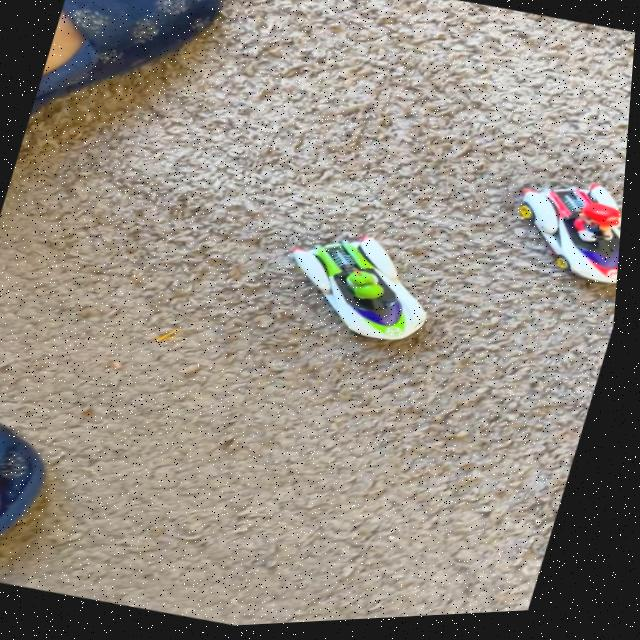mario: (487, 162, 629, 311)
yoshi: (255, 201, 472, 372)
